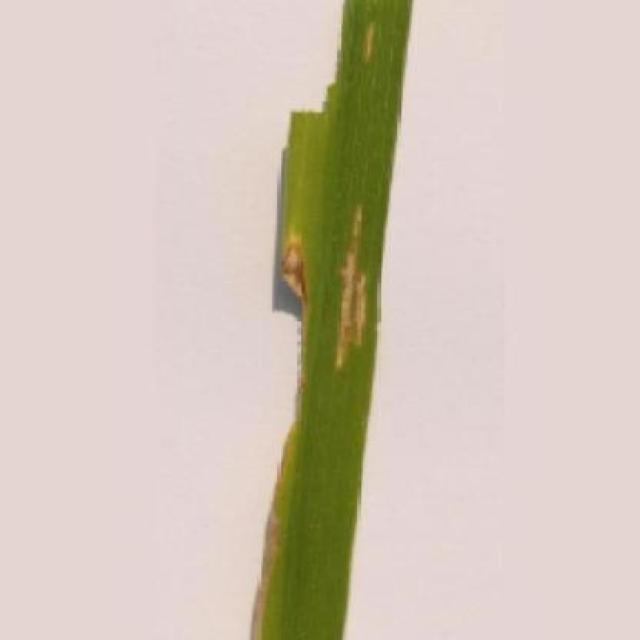Brown_Spot: (246, 0, 417, 640)
